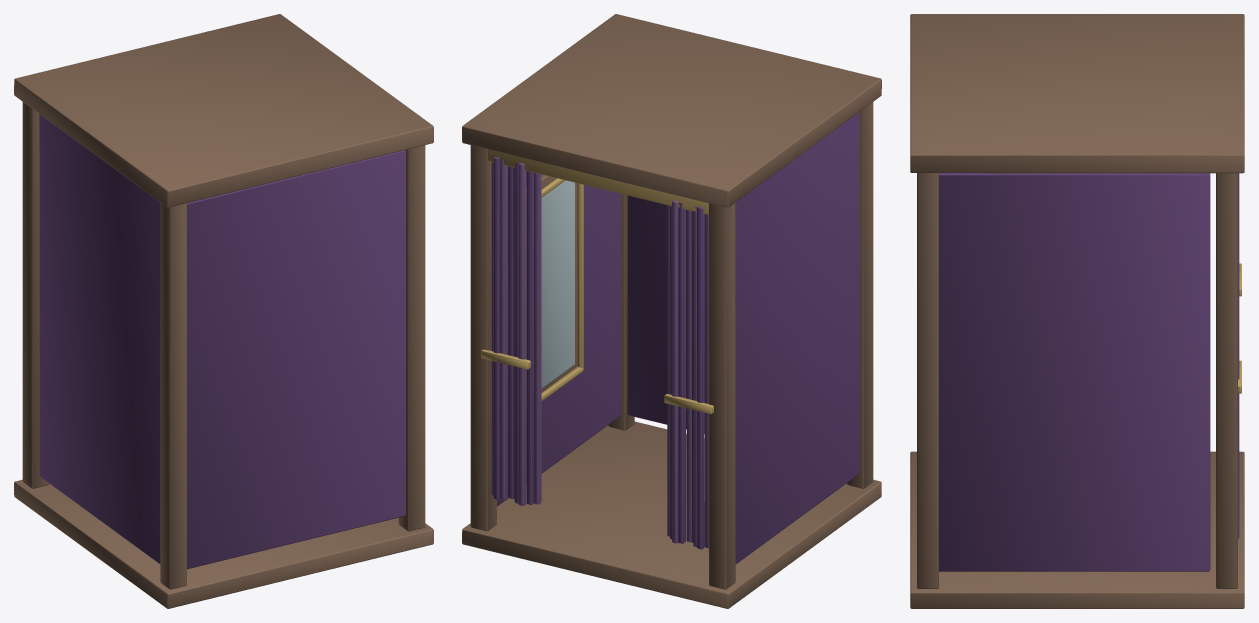
Rendered from prop_transform_booth.glb.
3 views of the same model, side by side, from view 1: azimuth 30°, elevation 25°; view 2: azimuth 150°, elevation 25°; view 3: azimuth 270°, elevation 25° (orthographic). The views are drawn at different scales.
Bounding box in the file's own units: 1.6 × 2.4 × 1.6.
